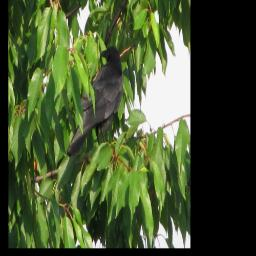Crow: (66, 45, 124, 157)
